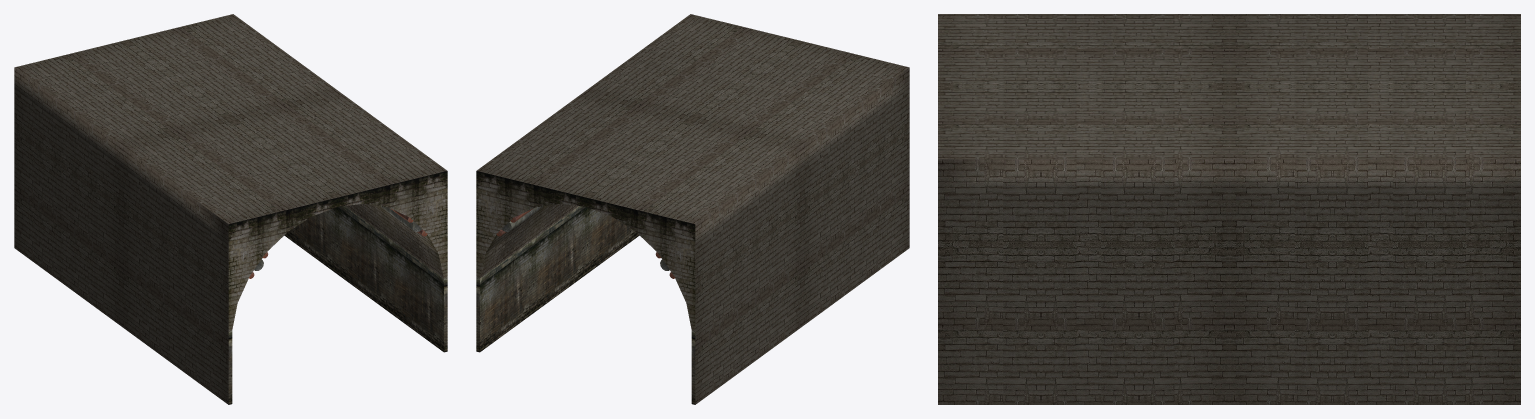
The model's file is sewer wall long.FBX.
3 renders of one model, left to right at view 1: azimuth 30°, elevation 25°; view 2: azimuth 150°, elevation 25°; view 3: azimuth 270°, elevation 25°, orthographic. The views are drawn at different scales.
Parts seen in each view (by area): view 1: sewer wall long; view 2: sewer wall long; view 3: sewer wall long.
Part boxes in pixels (box(x1,y1,x2,y2)): sewer wall long: box(14, 14, 447, 404); sewer wall long: box(476, 14, 909, 404); sewer wall long: box(938, 14, 1520, 404).
Bounding box in the file's own units: 1708 × 1347 × 2895.
